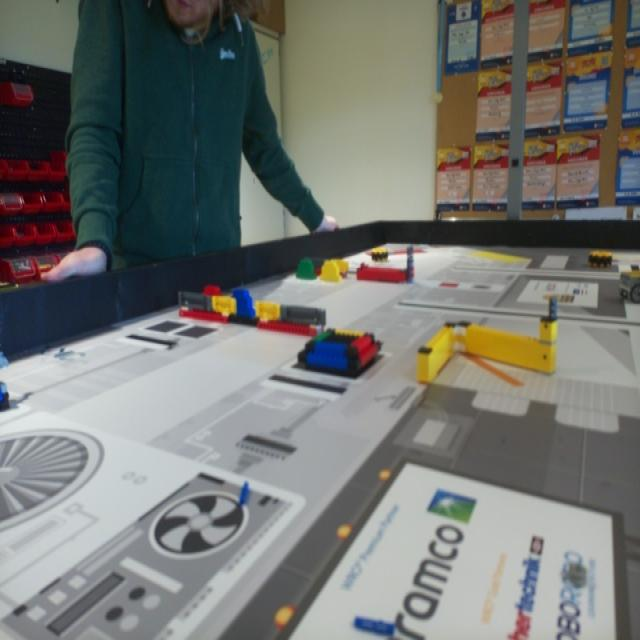blau: (227, 287, 255, 326)
gruen: (294, 256, 316, 280)
rot: (202, 282, 222, 295)
yellow: (319, 256, 344, 282)
